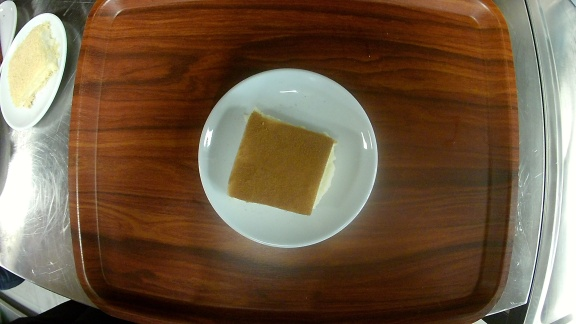tiramisu: (199, 67, 379, 249)
